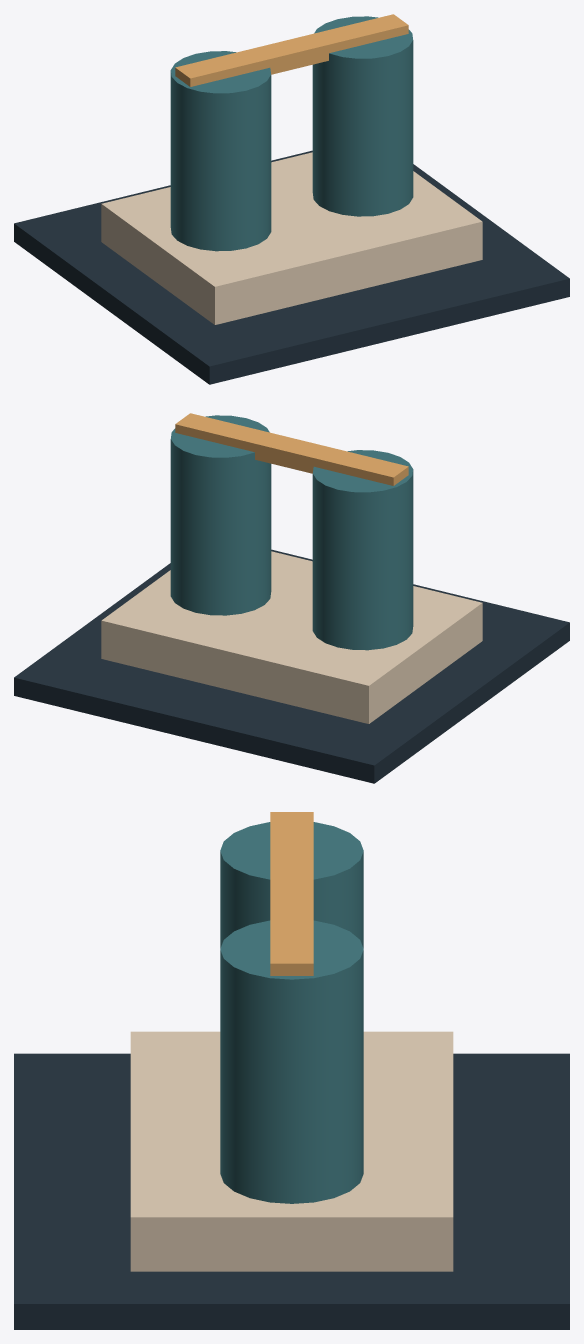
Rendered from waterRecycler.glb.
The picture shows the model from 3 angles, top to bottom: view 1: azimuth 30°, elevation 25°; view 2: azimuth 150°, elevation 25°; view 3: azimuth 270°, elevation 25°; orthographic projection. The views are drawn at different scales.
Visible parts, largest first — view 1: waterRecycler; view 2: waterRecycler; view 3: waterRecycler.
Part boxes in pixels (x1,y1,x2,y2): waterRecycler: [14, 14, 569, 384]; waterRecycler: [14, 413, 569, 783]; waterRecycler: [14, 812, 569, 1329].
Size of the model in its own units: 3.3 by 1.95 by 3.1.
